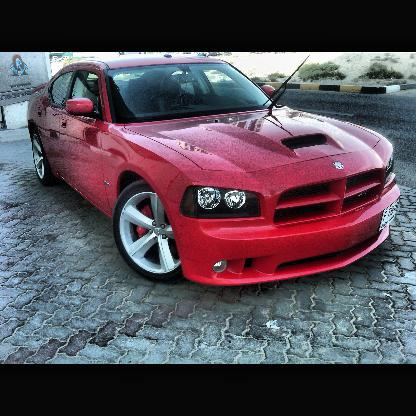Dodge Charger SRT-8 2009: (29, 53, 404, 289)
